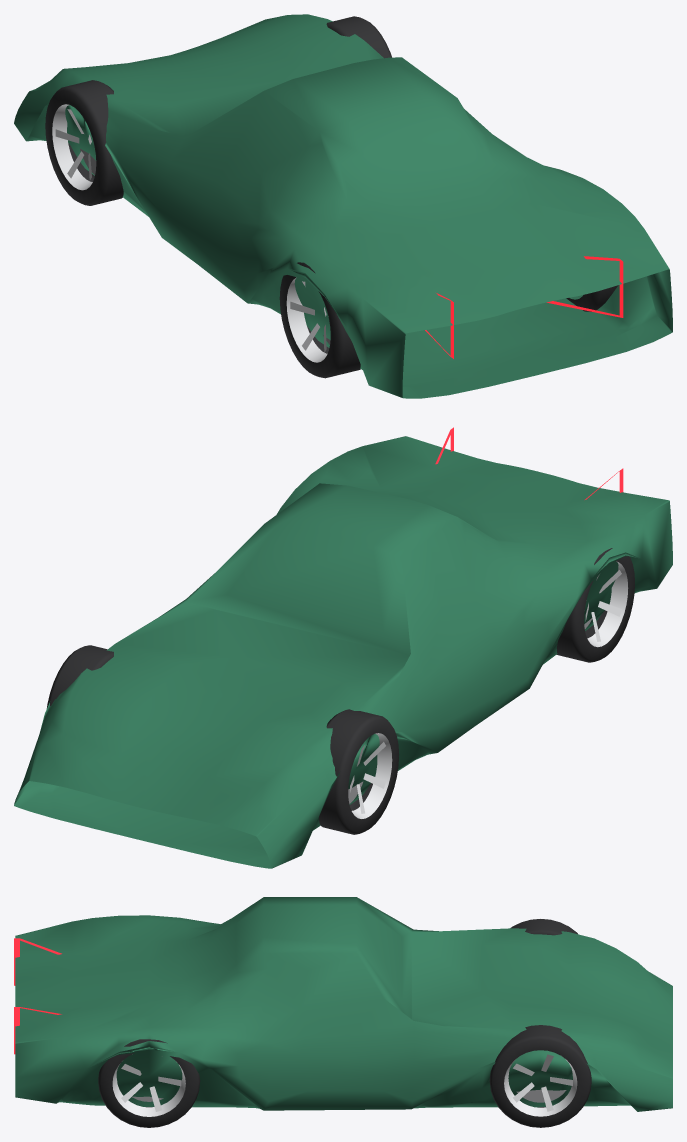
File: Car_Lotus_Evija_future.glb
3 views of the same model, one above another, from view 1: azimuth 30°, elevation 25°; view 2: azimuth 150°, elevation 25°; view 3: azimuth 270°, elevation 25° (orthographic). The views are drawn at different scales.
Visible parts, largest first — view 1: BODY_LotusEvija_MainHull, WHEEL_FR_Tire, WHEEL_RR_Tire, WHEEL_FR_Rim, WHEEL_RR_Rim, WHEEL_FL_Tire, LIGHT_Evija_VenturiLightRings, WHEEL_RL_Tire; view 2: BODY_LotusEvija_MainHull, WHEEL_FR_Tire, WHEEL_RR_Tire, WHEEL_FR_Rim, WHEEL_RR_Rim, WHEEL_FL_Tire; view 3: BODY_LotusEvija_MainHull, WHEEL_FL_Tire, WHEEL_RL_Tire, WHEEL_FL_Rim, WHEEL_RL_Rim, WHEEL_FR_Tire, LIGHT_Evija_VenturiLightRings, WHEEL_FL_BrakeDisc.
Boxes of the visible parts, x1,y1,x2,y2 form: BODY_LotusEvija_MainHull: (14, 14, 672, 398); WHEEL_FR_Tire: (45, 80, 123, 205); WHEEL_RR_Tire: (279, 262, 360, 378); WHEEL_FR_Rim: (52, 104, 92, 190); WHEEL_RR_Rim: (286, 277, 327, 362); WHEEL_FL_Tire: (326, 16, 391, 58); LIGHT_Evija_VenturiLightRings: (425, 256, 623, 358); WHEEL_RL_Tire: (566, 285, 618, 311); BODY_LotusEvija_MainHull: (14, 436, 672, 868); WHEEL_FR_Tire: (319, 709, 399, 834); WHEEL_RR_Tire: (556, 548, 634, 662); WHEEL_FR_Rim: (350, 733, 392, 818); WHEEL_RR_Rim: (585, 561, 628, 647); WHEEL_FL_Tire: (46, 645, 113, 708); BODY_LotusEvija_MainHull: (15, 897, 672, 1111); WHEEL_FL_Tire: (489, 1025, 591, 1127); WHEEL_RL_Tire: (98, 1039, 200, 1127); WHEEL_FL_Rim: (504, 1054, 577, 1116); WHEEL_RL_Rim: (112, 1056, 185, 1116); WHEEL_FR_Tire: (510, 919, 577, 935); LIGHT_Evija_VenturiLightRings: (14, 938, 61, 1054); WHEEL_FL_BrakeDisc: (516, 1089, 566, 1102).
Size of the model in its own units: 1.98 by 1.14 by 4.46.
